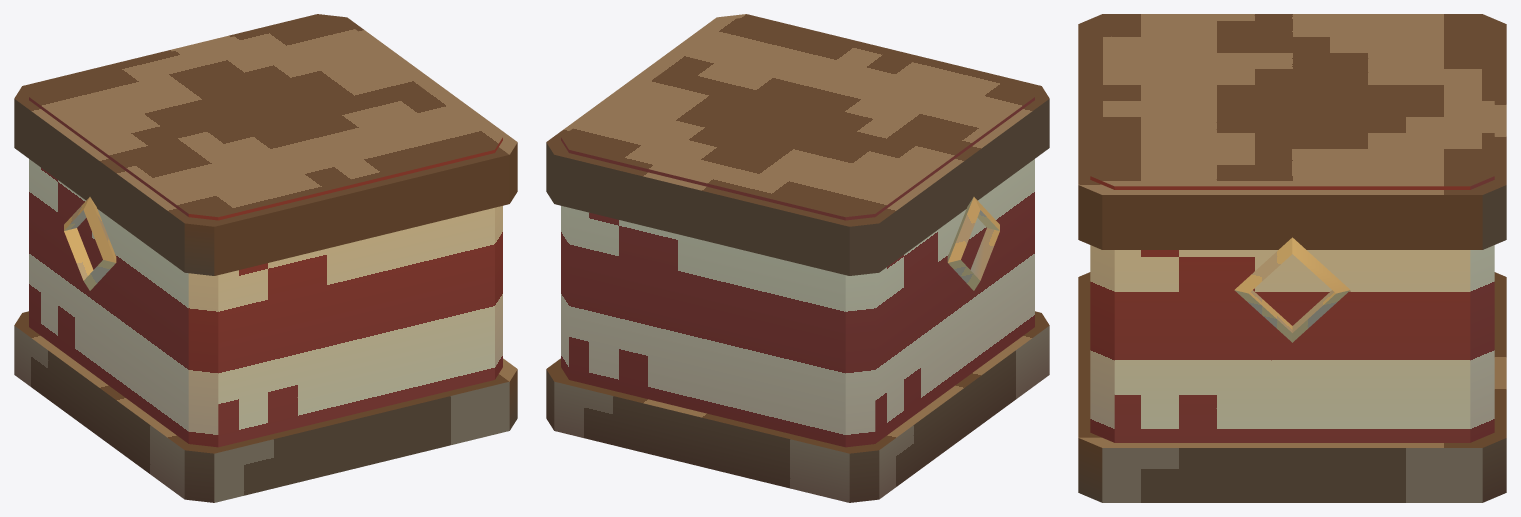
The model's file is wprop.crate__powder.glb.
The picture shows the model from 3 angles, left to right: view 1: azimuth 30°, elevation 25°; view 2: azimuth 150°, elevation 25°; view 3: azimuth 270°, elevation 25°; orthographic projection. The views are drawn at different scales.
Visible parts, largest first — view 1: kit_box, kit_edges, kit_handles; view 2: kit_box, kit_edges, kit_handles; view 3: kit_box, kit_edges, kit_handles.
Boxes of the visible parts, <box> form: kit_box: <box>29,17,502,447</box>; kit_edges: <box>14,14,517,502</box>; kit_handles: <box>64,197,116,290</box>; kit_box: <box>561,17,1034,447</box>; kit_edges: <box>546,14,1049,502</box>; kit_handles: <box>947,197,999,290</box>; kit_box: <box>1090,15,1494,442</box>; kit_edges: <box>1078,14,1506,502</box>; kit_handles: <box>1234,237,1350,342</box>.
Bounding box in the file's own units: 0.5808 × 0.425 × 0.53.
Materials: 3 (3 with a texture image).
